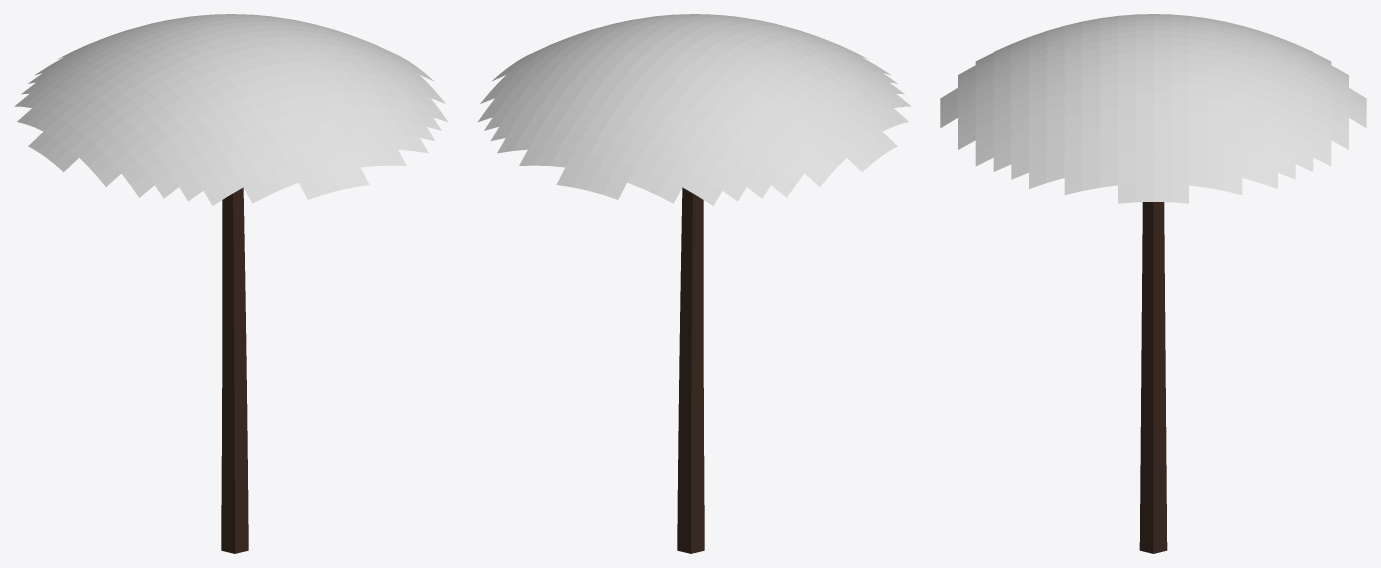
File: VerTree04.glb
The picture shows the model from 3 angles, left to right: view 1: azimuth 30°, elevation 25°; view 2: azimuth 150°, elevation 25°; view 3: azimuth 270°, elevation 25°; orthographic projection.
Parts seen in each view (by area): view 1: VerTree04; view 2: VerTree04; view 3: VerTree04.
Part boxes in pixels (box(x1,y1,x2,y2)): VerTree04: box(14, 14, 447, 553); VerTree04: box(478, 14, 911, 553); VerTree04: box(940, 14, 1366, 553).
Bounding box in the file's own units: 6.75 × 8.76 × 6.75.
